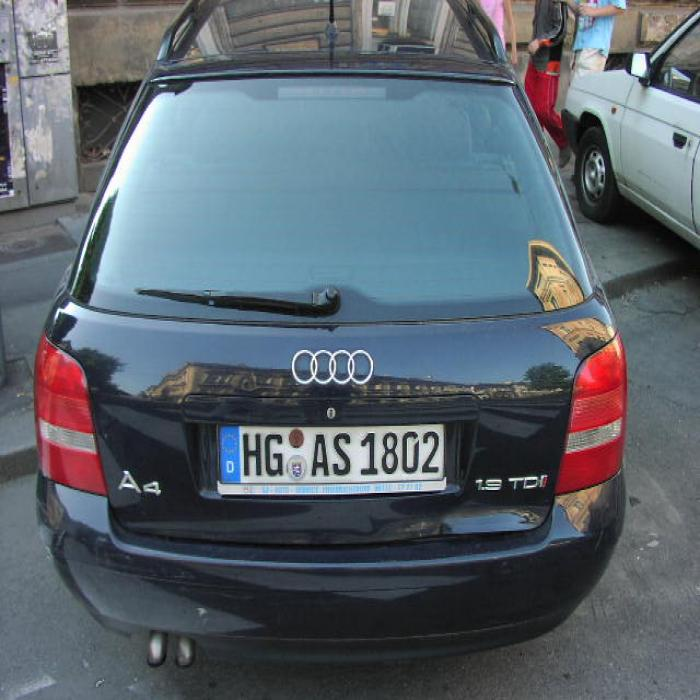number_plate: (215, 424, 438, 482)
